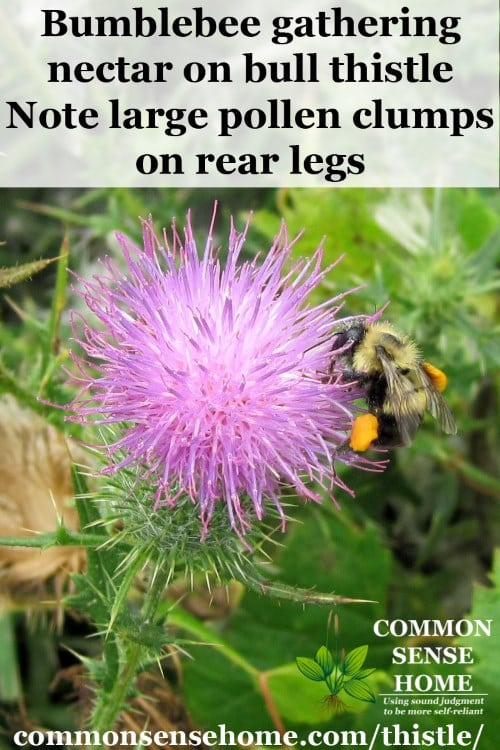thistle: (43, 210, 427, 591)
